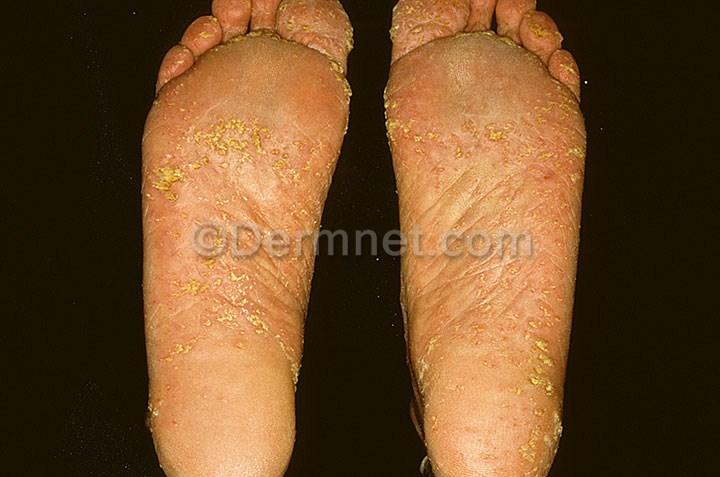Eczema: (405, 262, 594, 477), (388, 86, 592, 193), (161, 261, 322, 393), (191, 0, 369, 103), (389, 2, 608, 80), (197, 107, 327, 197), (143, 132, 201, 211)
